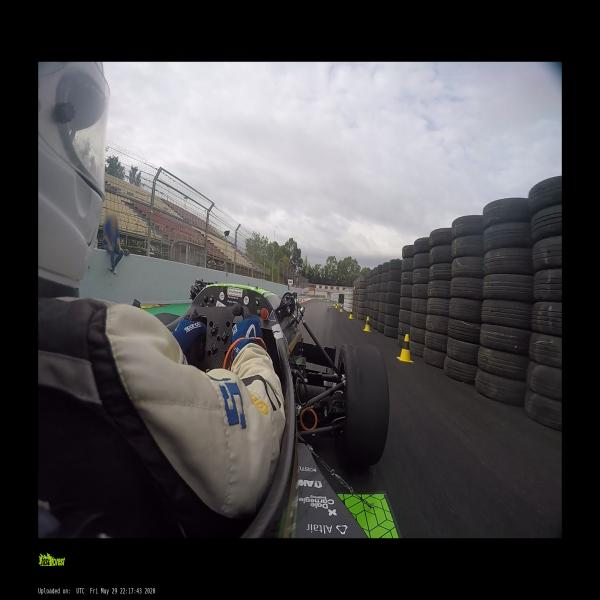orange_cone: (302, 297, 305, 302), (298, 297, 300, 302)
yellow_cone: (395, 334, 413, 364), (363, 316, 371, 332), (348, 310, 353, 318), (339, 305, 343, 312), (335, 304, 338, 308), (334, 302, 336, 306), (337, 303, 339, 306)
